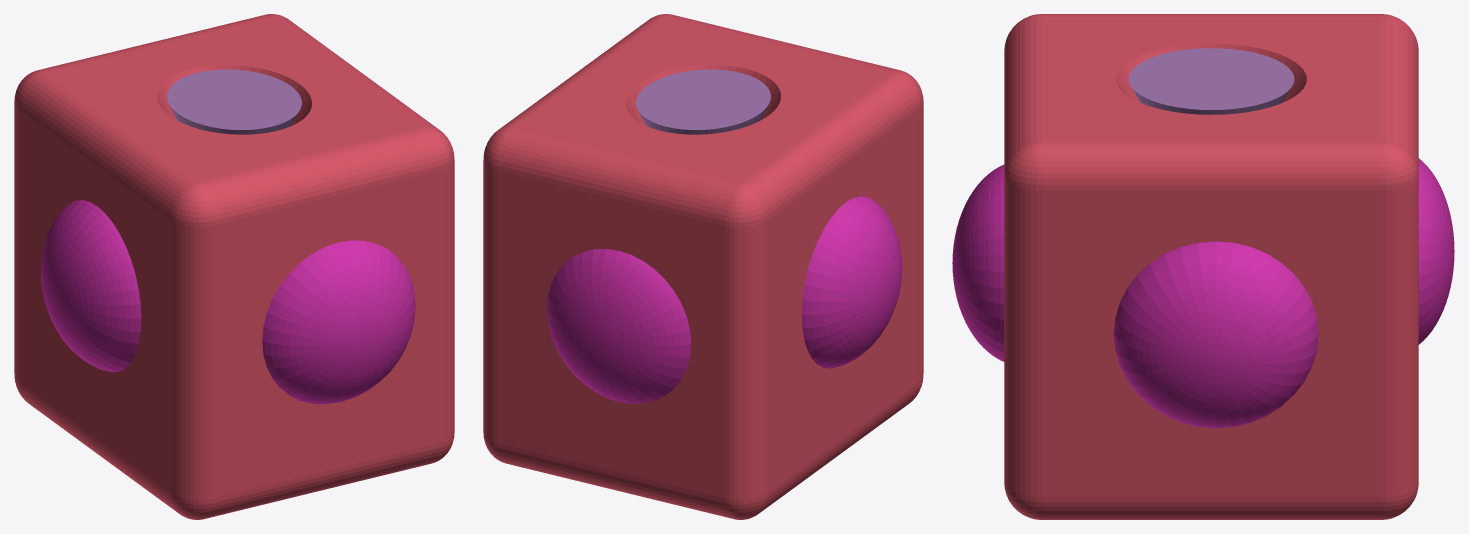
Rendered from X - Cash - sky diver.glb.
The picture shows the model from 3 angles, left to right: view 1: azimuth 30°, elevation 25°; view 2: azimuth 150°, elevation 25°; view 3: azimuth 270°, elevation 25°; orthographic projection. The views are drawn at different scales.
Parts seen in each view (by area): view 1: Mesh_Mesh_head_geo.001_lambert2SG.001; view 2: Mesh_Mesh_head_geo.001_lambert2SG.001; view 3: Mesh_Mesh_head_geo.001_lambert2SG.001.
Boxes of the visible parts, x1,y1,x2,y2 form: Mesh_Mesh_head_geo.001_lambert2SG.001: (14, 14, 454, 519); Mesh_Mesh_head_geo.001_lambert2SG.001: (483, 14, 923, 519); Mesh_Mesh_head_geo.001_lambert2SG.001: (952, 14, 1454, 519).
Size of the model in its own units: 0.046 by 0.04 by 0.0485.
